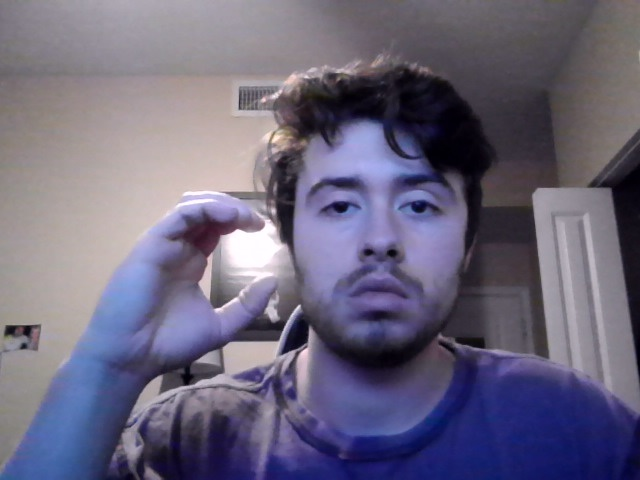c: (67, 190, 279, 385)
